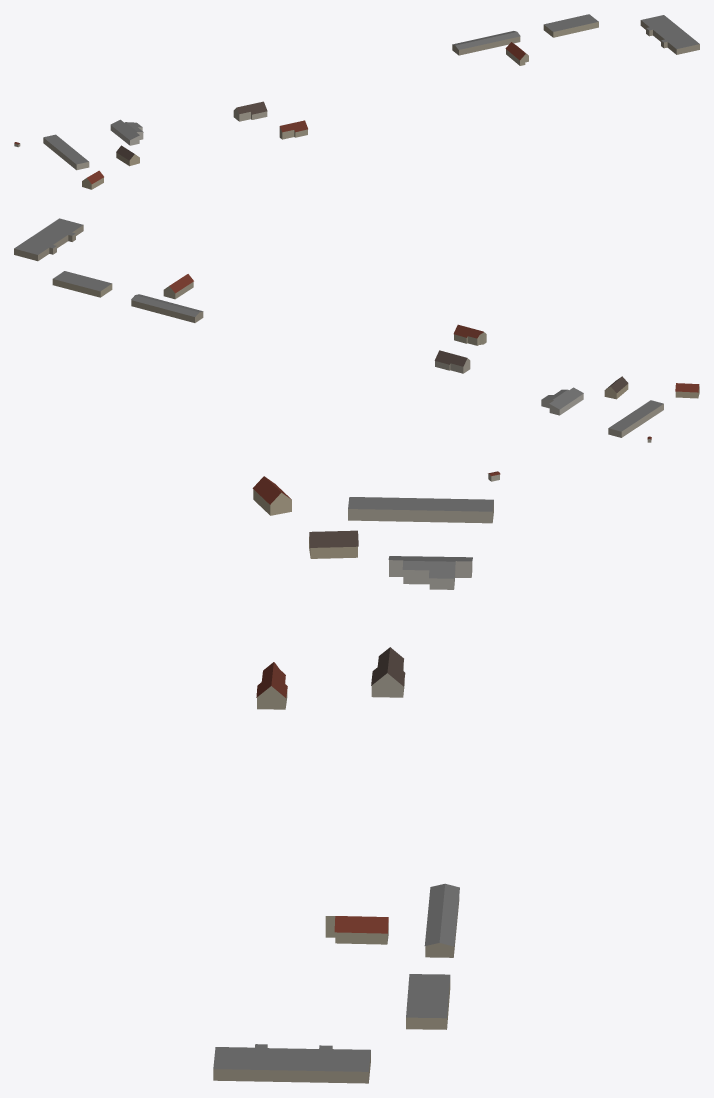
3 views of the same model, one above another, from view 1: azimuth 30°, elevation 25°; view 2: azimuth 150°, elevation 25°; view 3: azimuth 270°, elevation 25° (orthographic). The views are drawn at different scales.
Parts seen in each view (by area): view 1: buildings; view 2: buildings; view 3: buildings.
Part boxes in pixels (x1,y1,x2,y2): buildings: (14, 14, 699, 189); buildings: (14, 218, 699, 442); buildings: (213, 471, 500, 1083).
Bounding box in the file's own units: 669 × 14.27 × 135.
